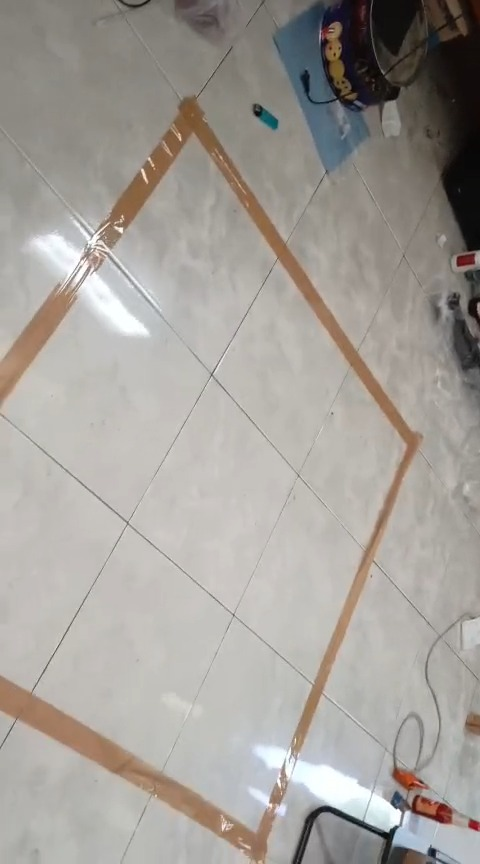floor marking: (0, 97, 420, 861)
